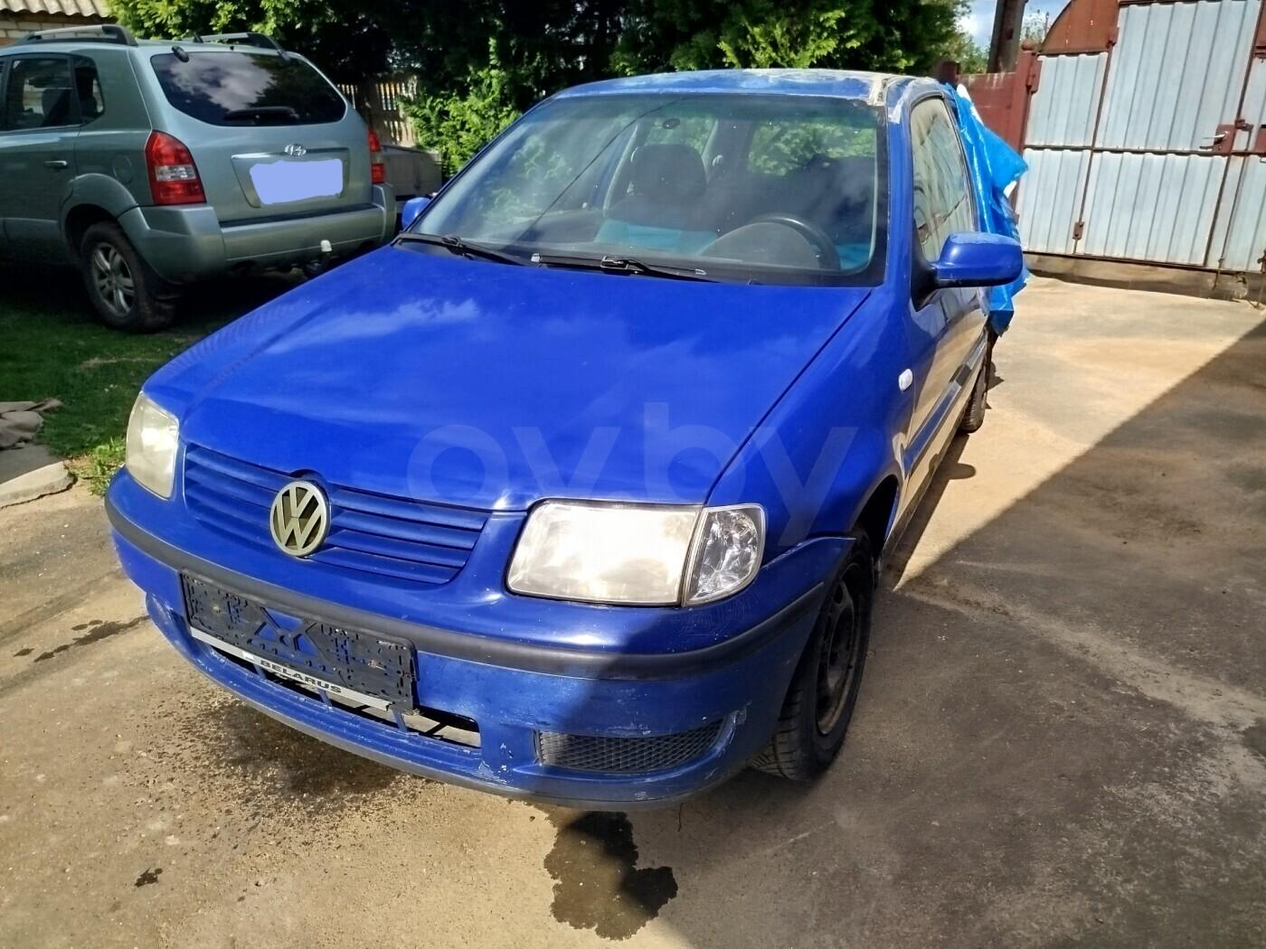Polo_2000-2002: (99, 62, 1037, 808)
